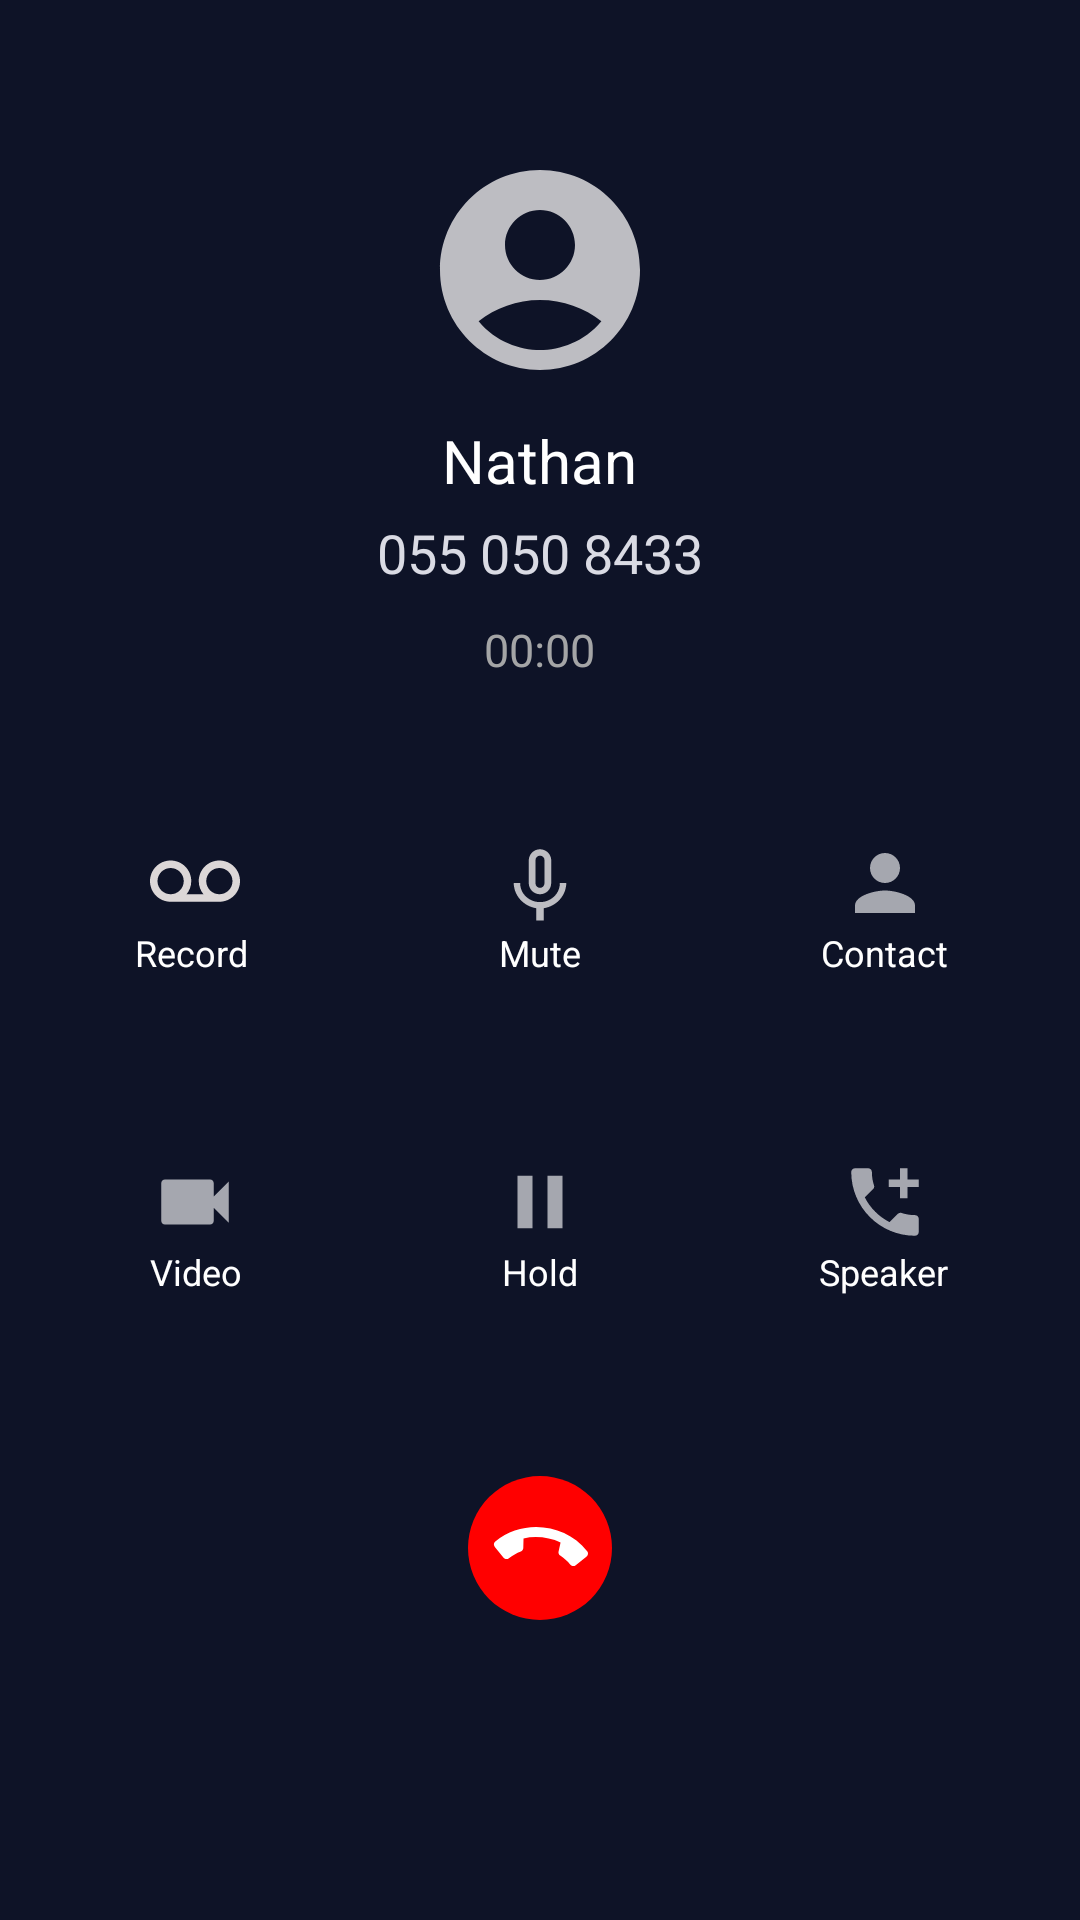

Where to tap for icons on this 1080w x 1920h app screen, as (x,y):
account: (885,883)
account circle: (540,270)
add: (885,1202)
decline: (540,1548)
pause: (540,1202)
voice: (540,885)
